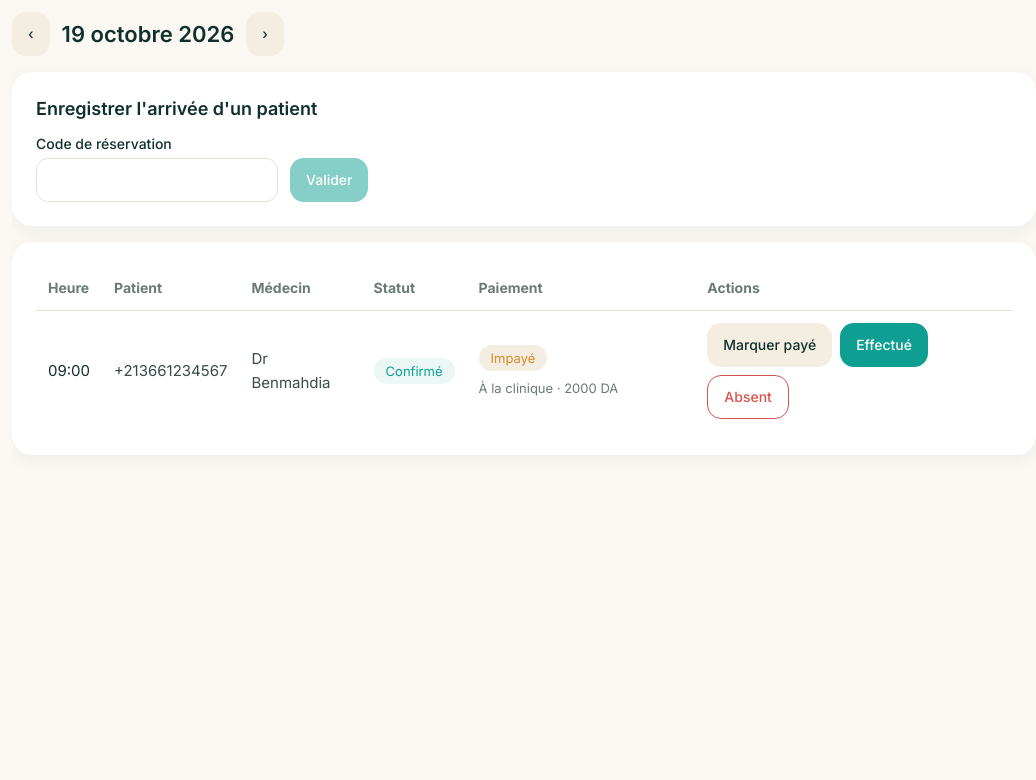
it: Check-in › marks the patient as arrived with the booking code and reminds to check the ID
Expected: the text "09:00" is shown, [36,310,102,431]
Type "k7m-4px" into the field labelled "Code de réservation" at (157, 180), box [36,158,278,202]
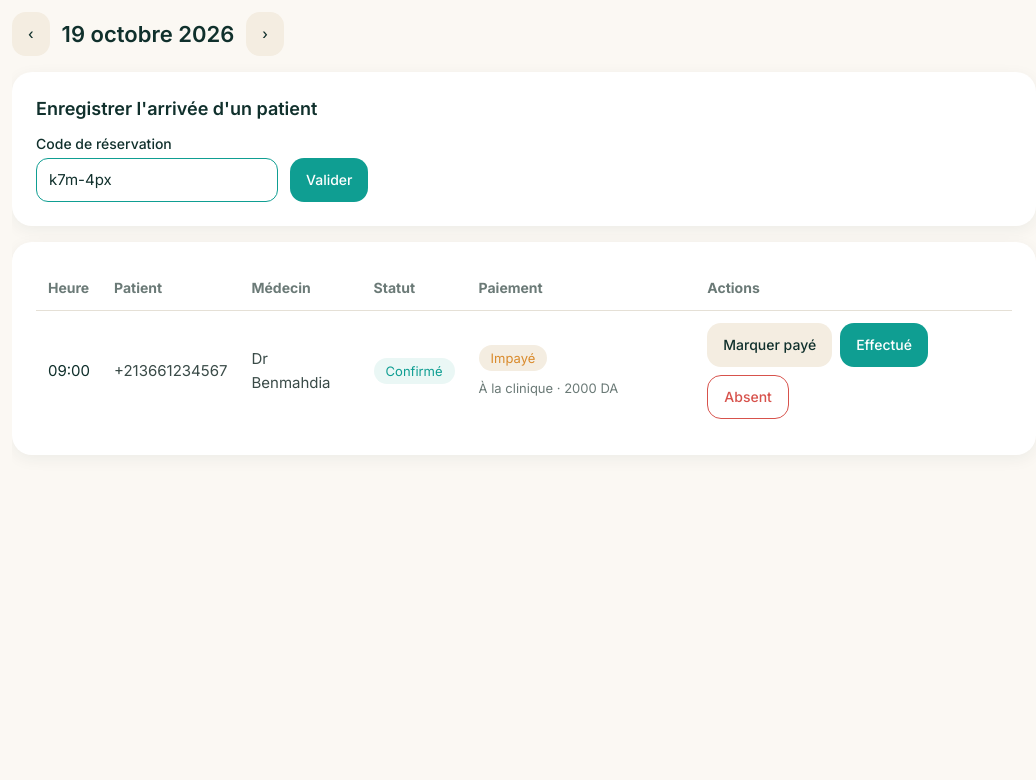
Click the button "Valider" at (329, 180), box [290,158,368,202]
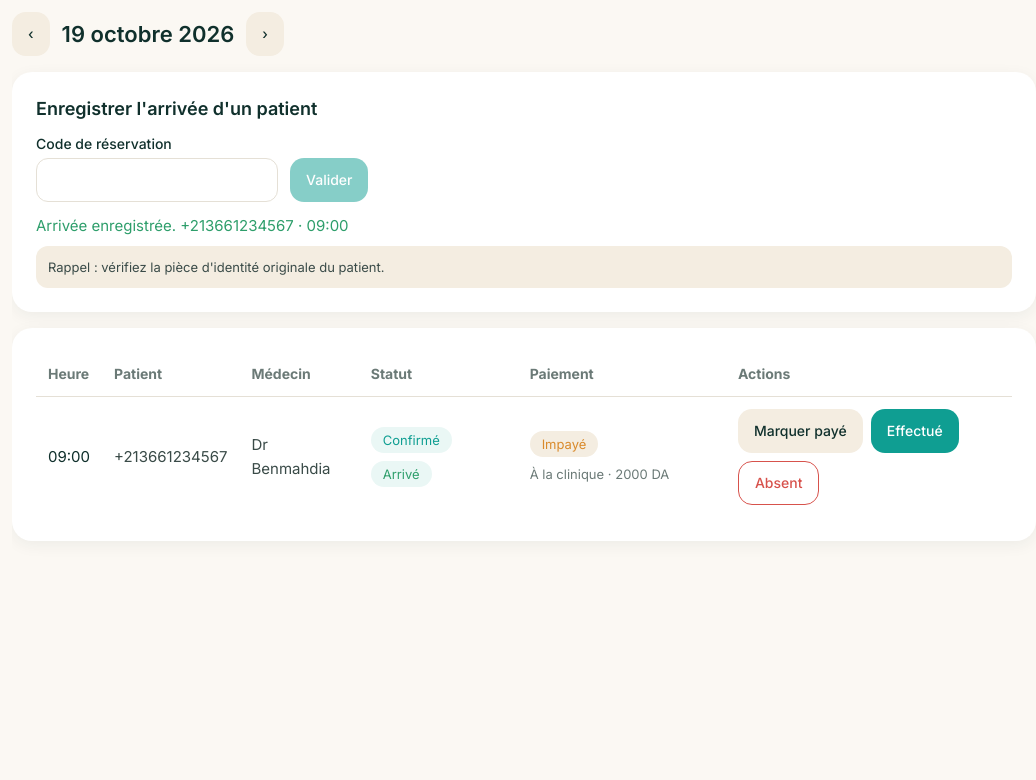
Expected: the message shows "Arrivée enregistrée.", [36,216,176,235]
Expected: the message shows "+213661234567", [180,216,294,235]
Expected: the message shows "vérifiez la pièce d'identité", [48,259,384,275]
